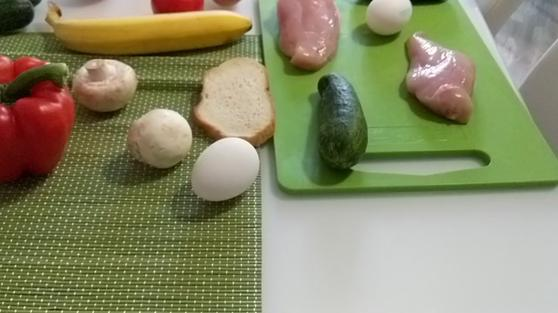banana: (48, 7, 252, 52)
champignon: (127, 107, 194, 168), (73, 58, 140, 111)
chicken_fillet: (402, 32, 477, 125), (275, 1, 339, 68)
cucumber: (316, 74, 369, 170)
egg: (191, 138, 259, 200), (365, 1, 414, 36)
pepper: (1, 54, 72, 179)
white_bread: (197, 56, 276, 142)
